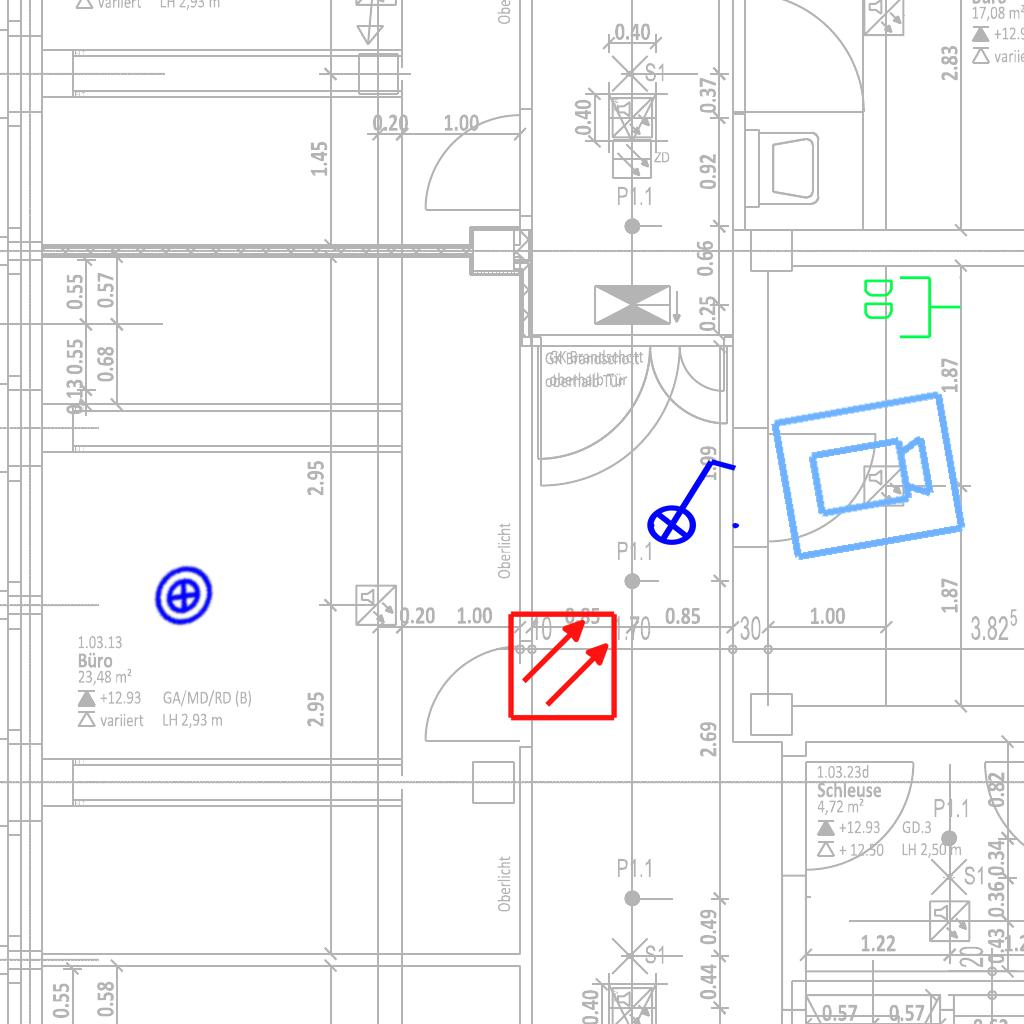Ausschalter_beleuchtet: (633, 451, 745, 547)
Datenanschluss_zweifach: (860, 272, 963, 341)
KFO_Kamera_mit_Festobjektiv: (765, 385, 971, 569)
RMO_Rauchmelder_optischer: (506, 609, 619, 722)
Taster_beleuchtet: (137, 549, 231, 643)
